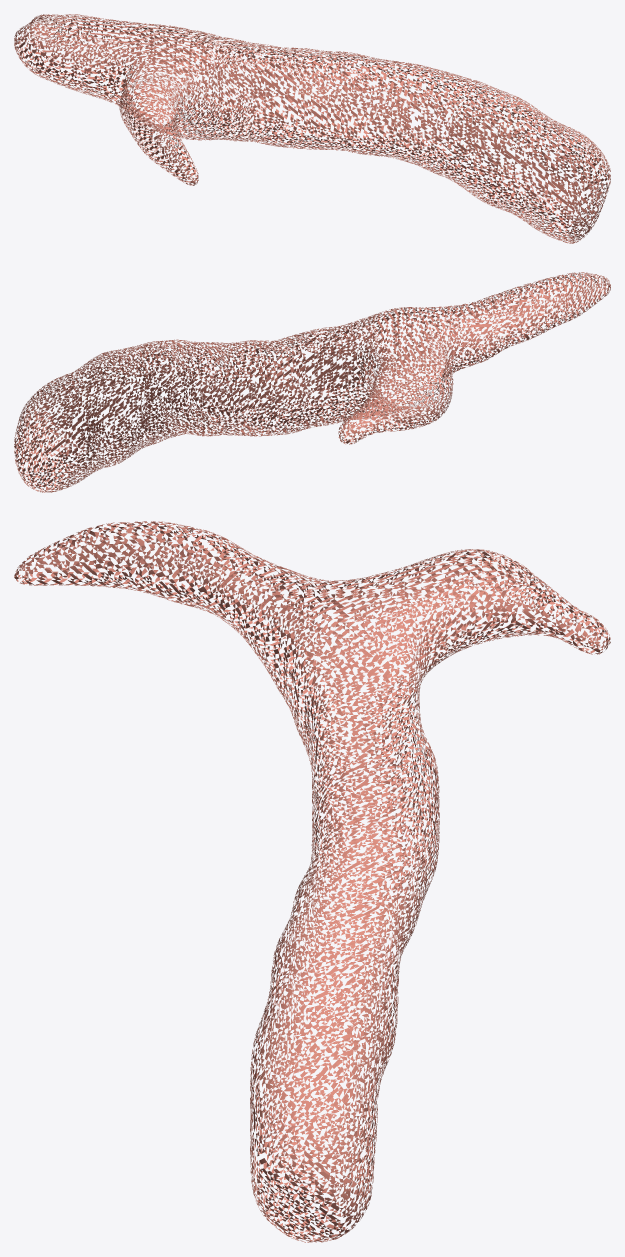
Rendered from morph_002.glb.
3 renders of one model, top to bottom at view 1: azimuth 30°, elevation 25°; view 2: azimuth 150°, elevation 25°; view 3: azimuth 270°, elevation 25°, orthographic. The views are drawn at different scales.
Size of the model in its own units: 120 by 64.88 by 86.84.
